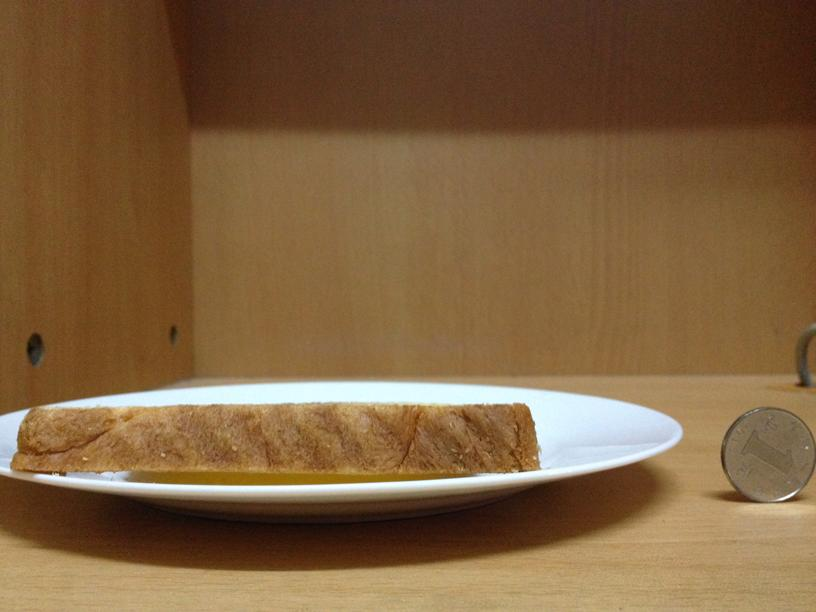bread: (8, 397, 546, 476)
coin: (716, 403, 813, 503)
